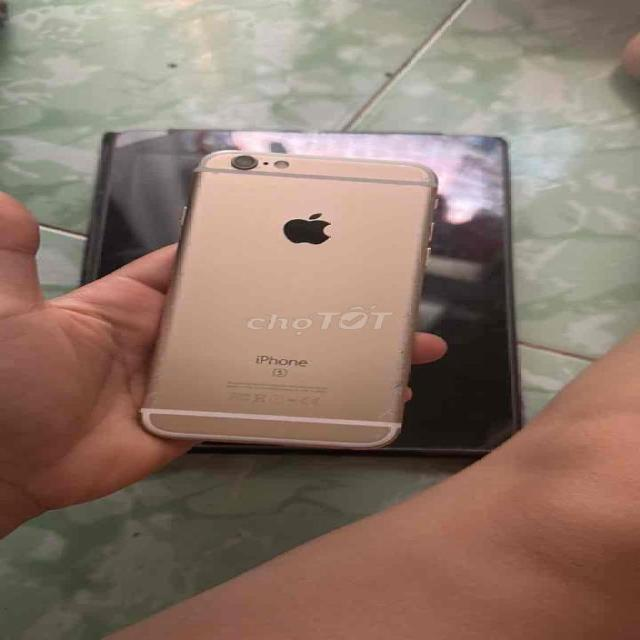gen_6: (128, 134, 448, 472)
